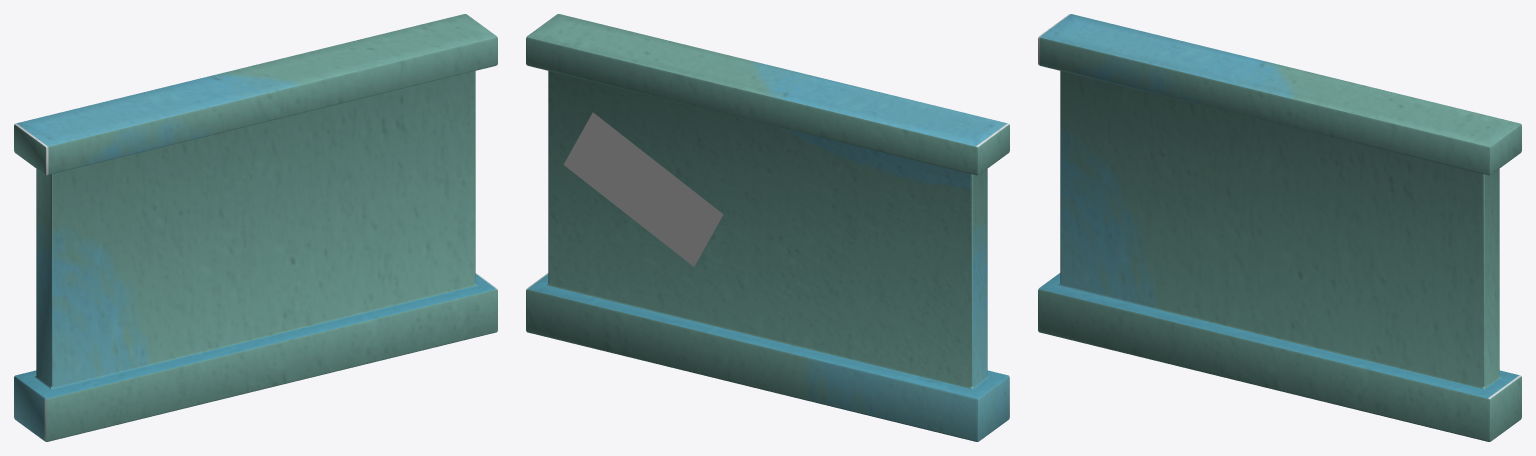
File: TOMB_WALL_3_2_001.obj
3 renders of one model, left to right at view 1: azimuth 30°, elevation 25°; view 2: azimuth 150°, elevation 25°; view 3: azimuth 330°, elevation 25°, orthographic.
Parts seen in each view (by area): view 1: TOMB_WALL_3_2_001; view 2: TOMB_WALL_3_2_001; view 3: TOMB_WALL_3_2_001.
Part boxes in pixels (x1,y1,x2,y2): TOMB_WALL_3_2_001: (14,14,497,441); TOMB_WALL_3_2_001: (526,14,1009,441); TOMB_WALL_3_2_001: (1038,14,1521,441).
Bounding box in the file's own units: 3.2 × 2 × 0.4.
